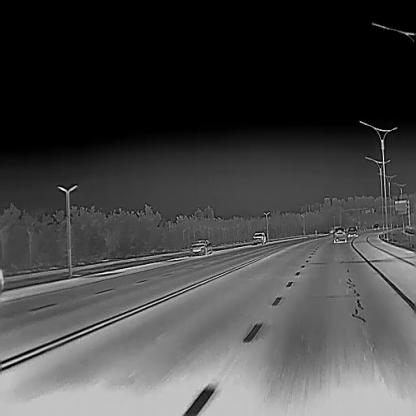car: (189, 238, 212, 255), (333, 227, 347, 243), (252, 232, 265, 244), (347, 226, 358, 237)
